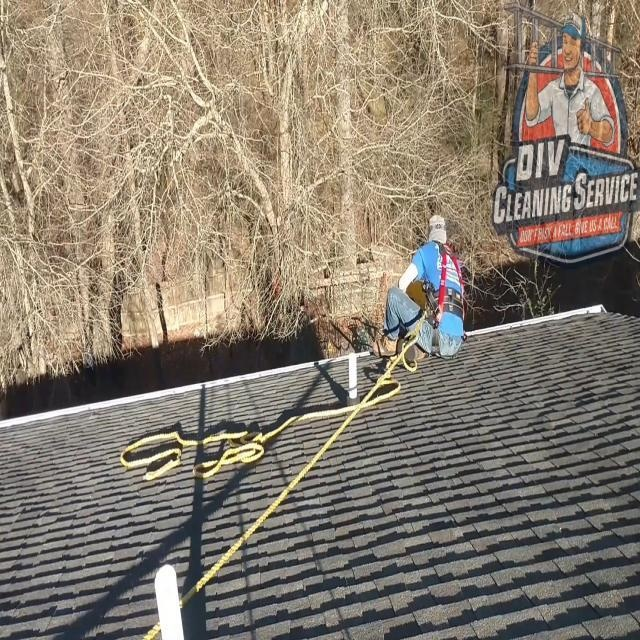Arnes_seguridad: (423, 233, 466, 353)
